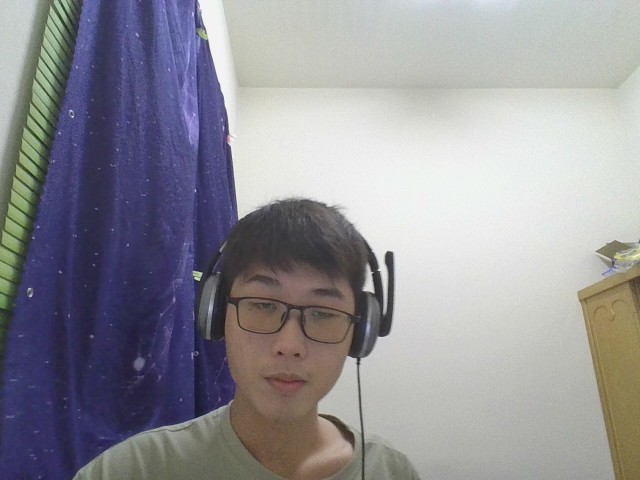No_Helmet: (197, 195, 392, 431)
person: (0, 188, 477, 479)
